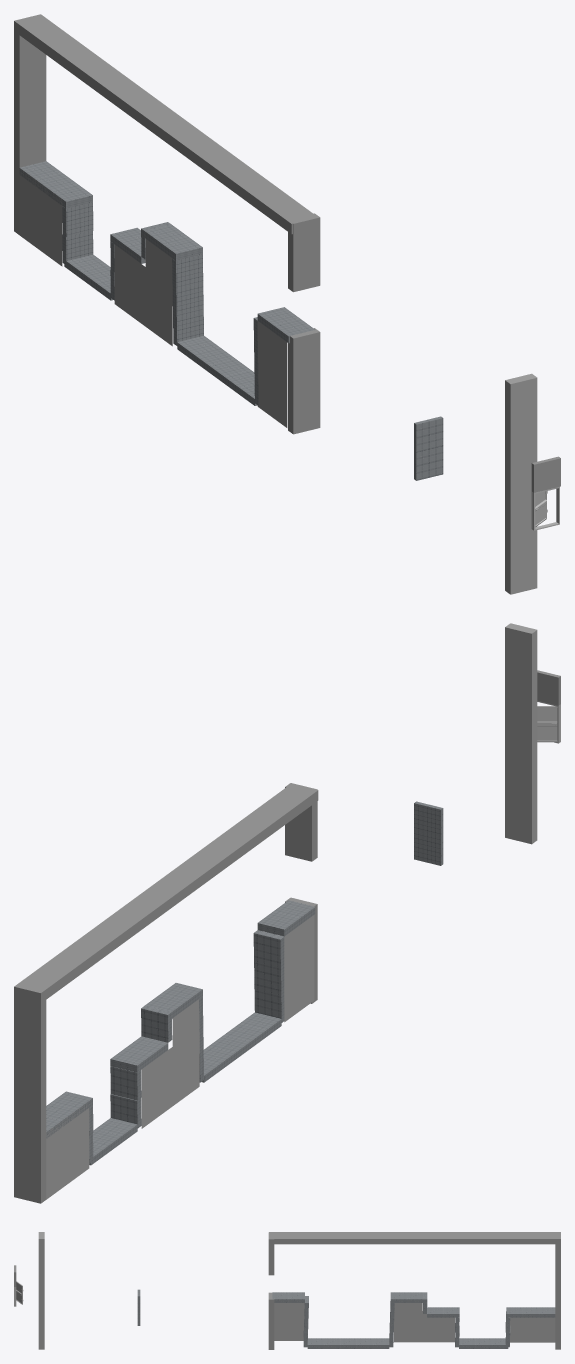
Rendered from Stage0_collision.fbx.
3 renders of one model, top to bottom at view 1: azimuth 30°, elevation 25°; view 2: azimuth 150°, elevation 25°; view 3: azimuth 270°, elevation 25°, orthographic. The views are drawn at different scales.
Parts seen in each view (by area): view 1: polySurface6, wall_def1, polySurface7, polySurface8, pPlane4, pPlane5, pPlane3, wall6, wall15, polySurface91, polySurface97, polySurface96 (+5 smaller); view 2: polySurface6, wall_def1, polySurface8, pPlane4, pPlane5, pPlane3, polySurface7, polySurface104, polySurface95, wall15, polySurface93, polySurface106 (+7 smaller); view 3: polySurface6, pPlane4, pPlane5, pPlane3, wall_def1, polySurface8, polySurface7, polySurface82, polySurface101, polySurface81, polySurface102, polySurface84 (+11 smaller).
Boxes of the visible parts, x1,y1,x2,y2 form: polySurface6: (17,17,315,234); wall_def1: (505,373,537,594); polySurface7: (288,213,320,434); polySurface8: (14,14,46,234); pPlane4: (114,239,172,346); pPlane5: (19,169,62,266); pPlane3: (257,321,287,427); wall6: (531,456,560,492); wall15: (414,416,443,452); polySurface91: (62,202,93,237); polySurface97: (172,283,203,317); polySurface96: (172,254,203,289); polySurface6: (19,783,318,999); wall_def1: (505,623,537,844); polySurface8: (14,983,46,1203); pPlane4: (141,999,199,1128); pPlane5: (46,1104,89,1199); pPlane3: (284,915,314,1022); polySurface7: (285,783,317,1003); polySurface104: (253,930,284,967); polySurface95: (141,1005,172,1042); wall15: (414,801,443,837); polySurface93: (110,1066,141,1100); polySurface106: (254,961,284,995); polySurface6: (269,1232,556,1244); pPlane4: (394,1303,454,1342); pPlane5: (510,1317,555,1342); pPlane3: (274,1303,304,1340); wall_def1: (38,1232,44,1349); polySurface8: (555,1232,560,1349); polySurface7: (268,1232,274,1349); polySurface82: (522,1307,538,1317); polySurface101: (340,1338,356,1348); polySurface81: (539,1307,555,1317); polySurface102: (324,1338,340,1348); polySurface84: (475,1338,491,1348).
Size of the model in its own units: 213 by 1496 by 6697.
